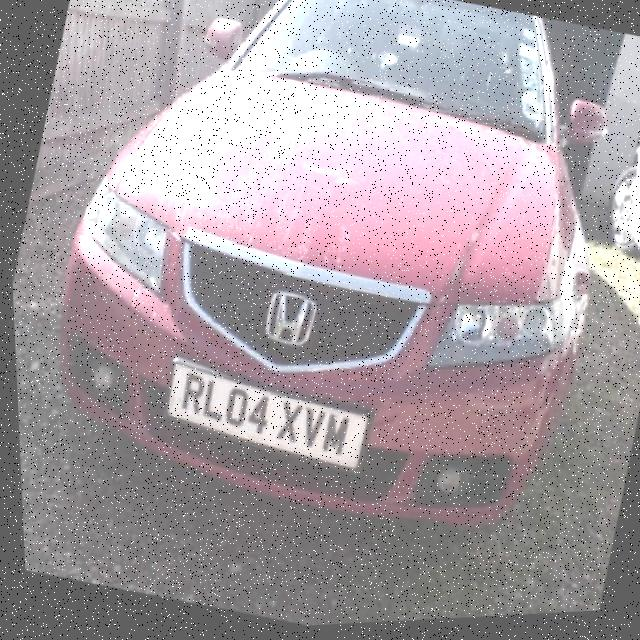license_plate: (156, 357, 368, 480)
